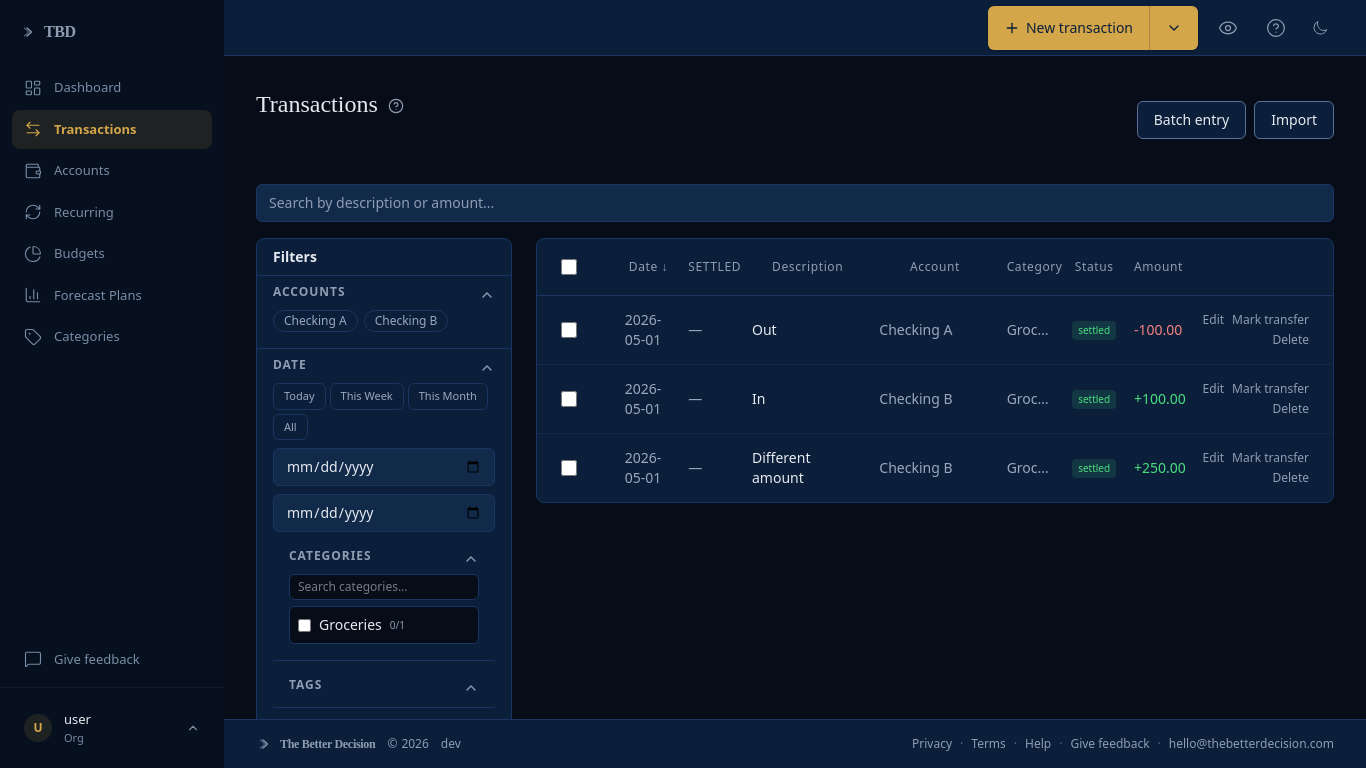
TransactionsPage — transfer wiring (Task D7) › Bulk-toolbar Link as transfer button: enabled when 2 valid rows selected, disabled with reason otherwise
The width and height of the screenshot is (1366, 768).
Expected: the checkbox named "Select transaction 2" is shown, [561, 391, 577, 407]
Expected: the checkbox named "Select transaction 3" is shown, [561, 460, 577, 476]
Step 1. Click the checkbox named "Select transaction 1" → x=569, y=330, box [561, 322, 577, 338]
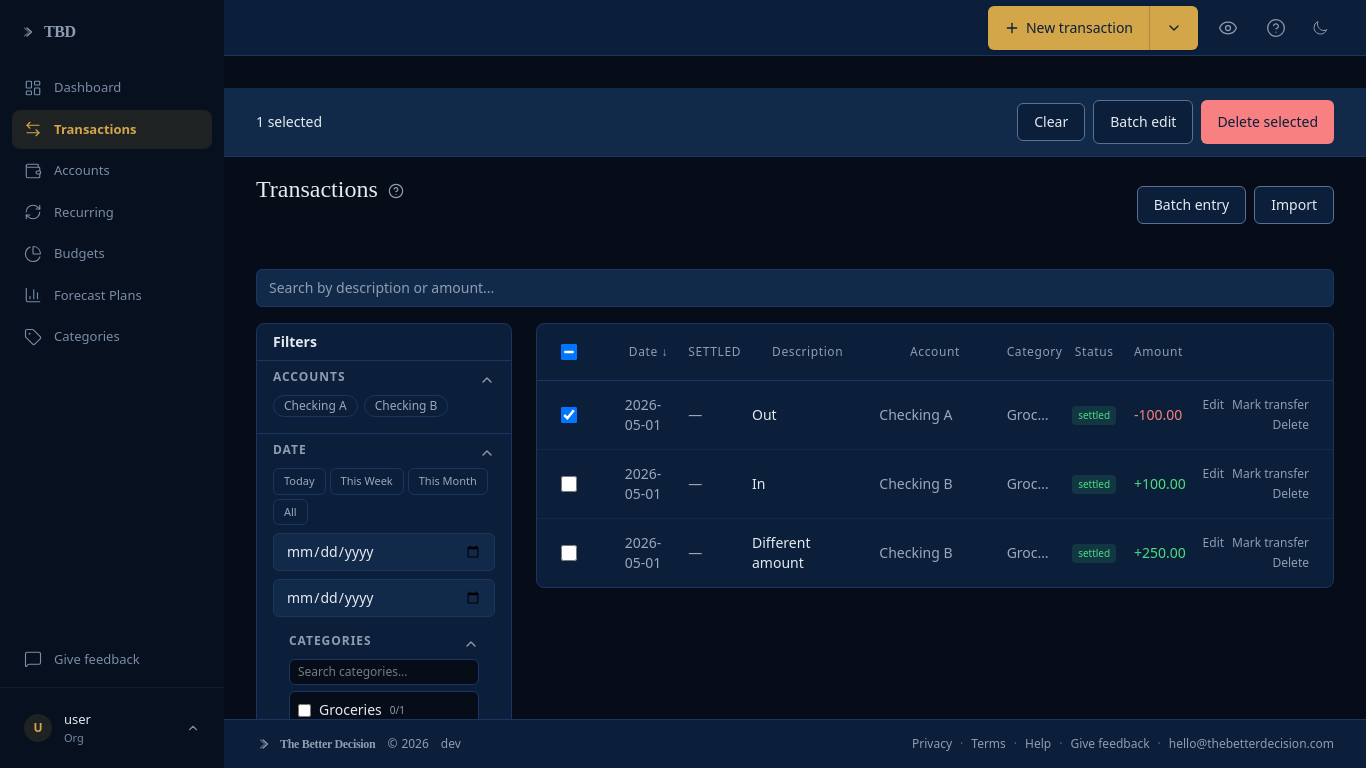
Step 2. Click the checkbox named "Select transaction 2" → x=569, y=484, box [561, 476, 577, 492]
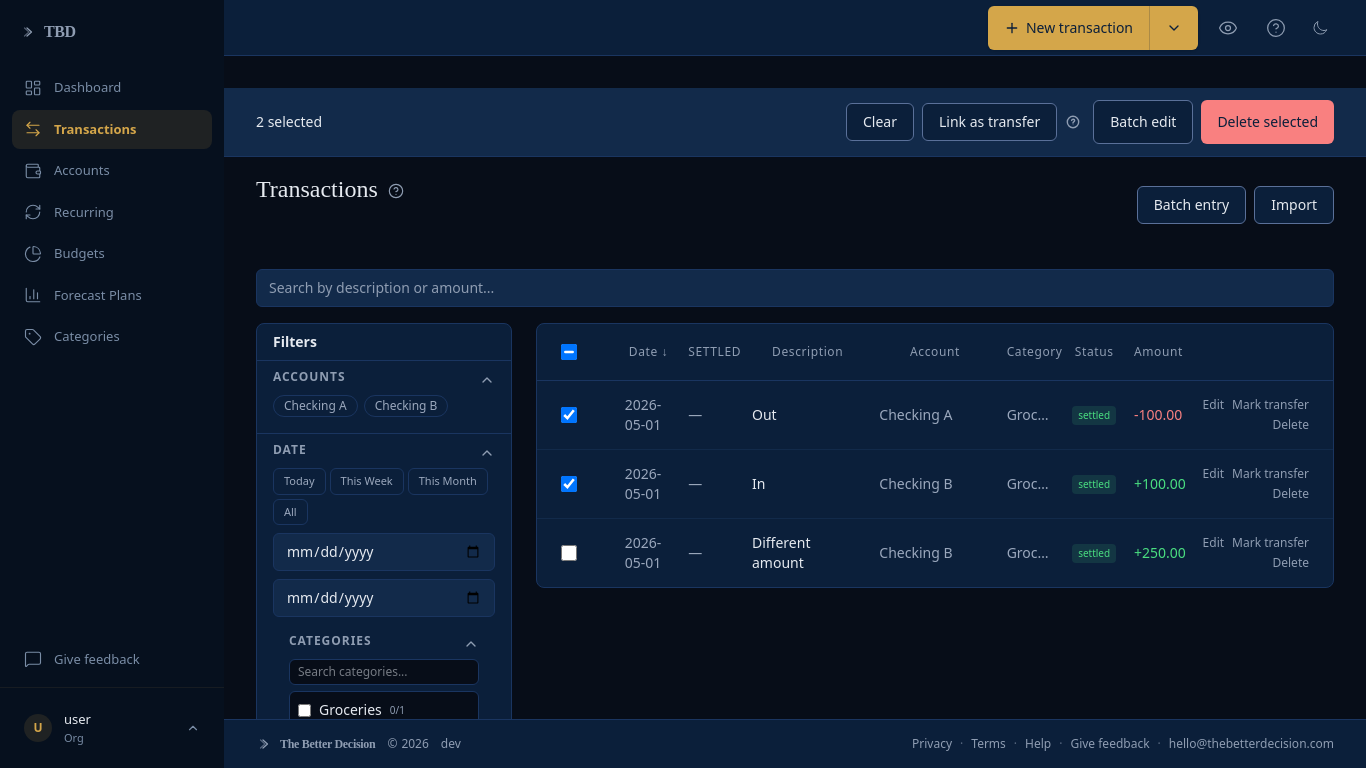
Expected: the button "Link as transfer" is enabled, [922, 103, 1057, 141]
Step 3. Click the checkbox named "Select transaction 2" → x=569, y=484, box [561, 476, 577, 492]
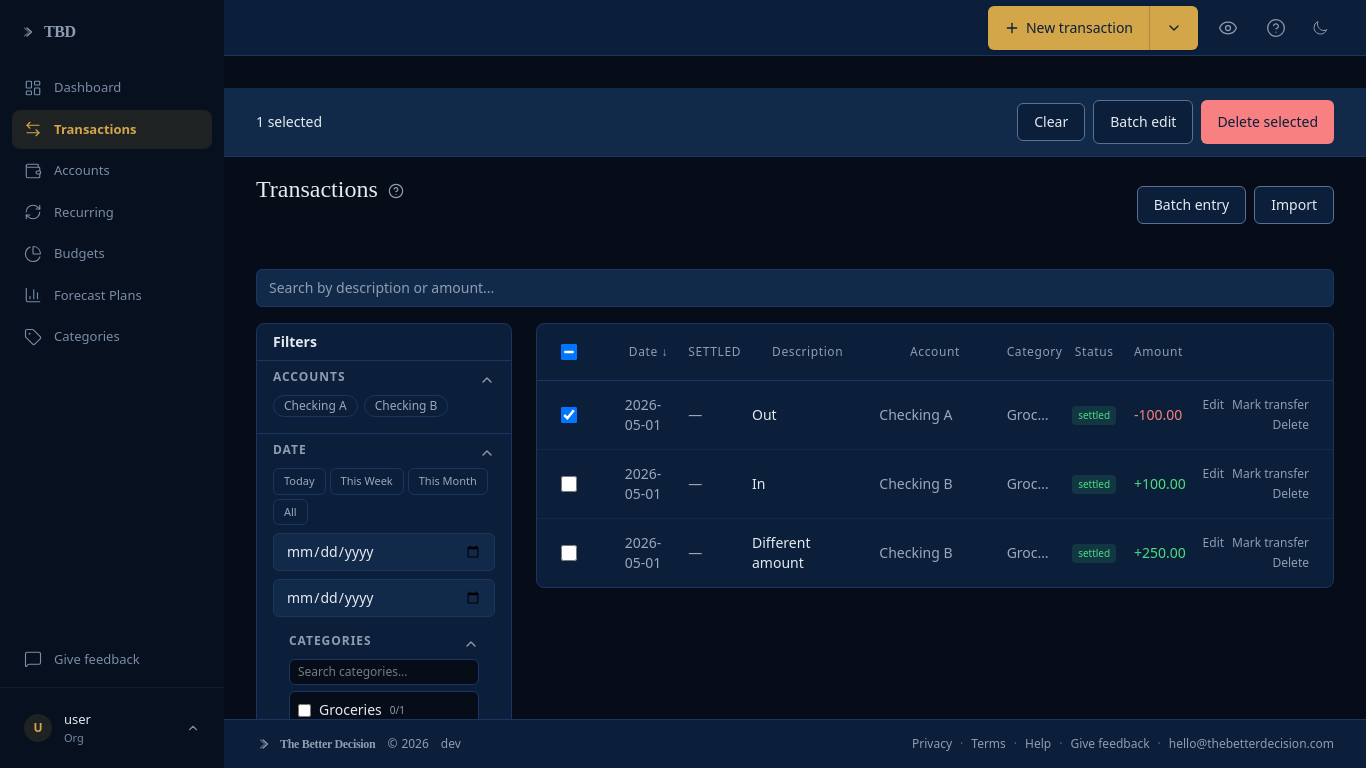
Step 4. Click the checkbox named "Select transaction 3" → x=569, y=553, box [561, 545, 577, 561]
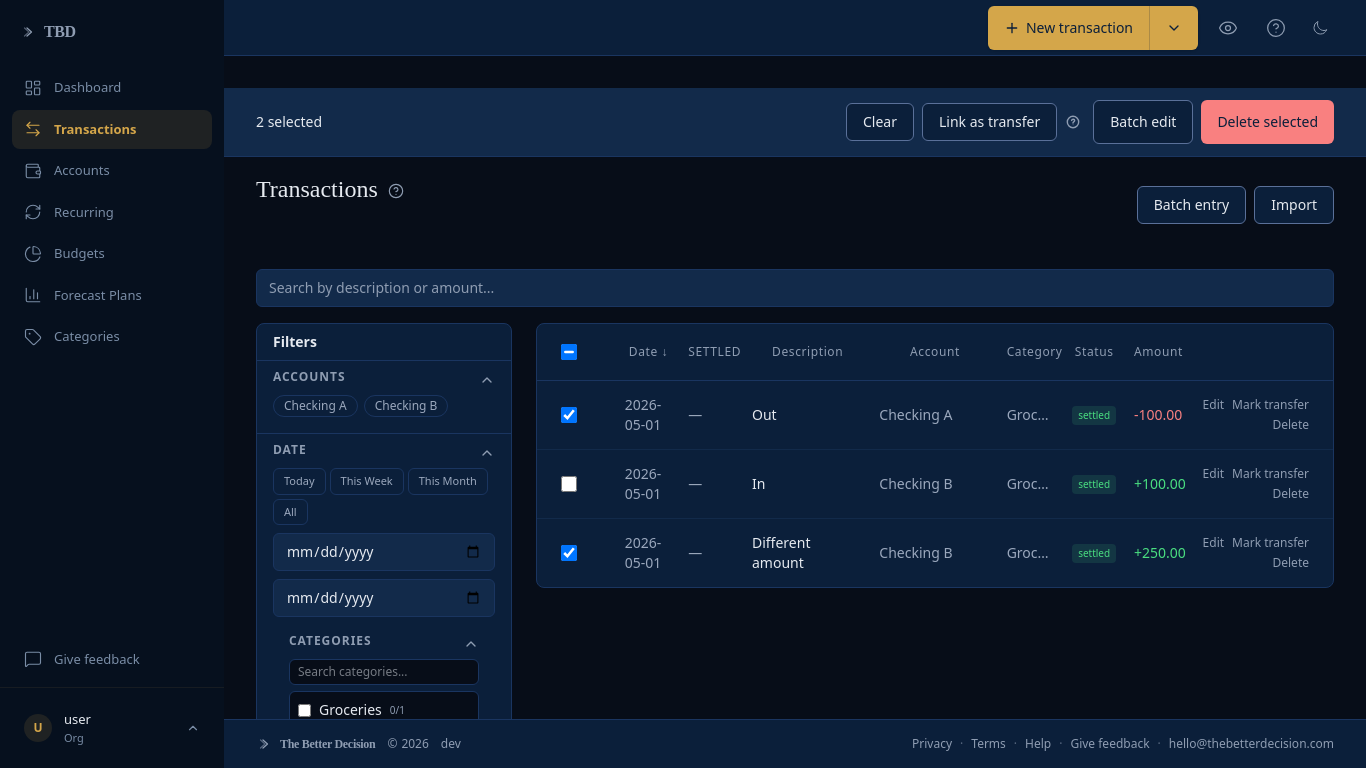
Expected: the button "Link as transfer" is disabled, [922, 103, 1057, 141]
